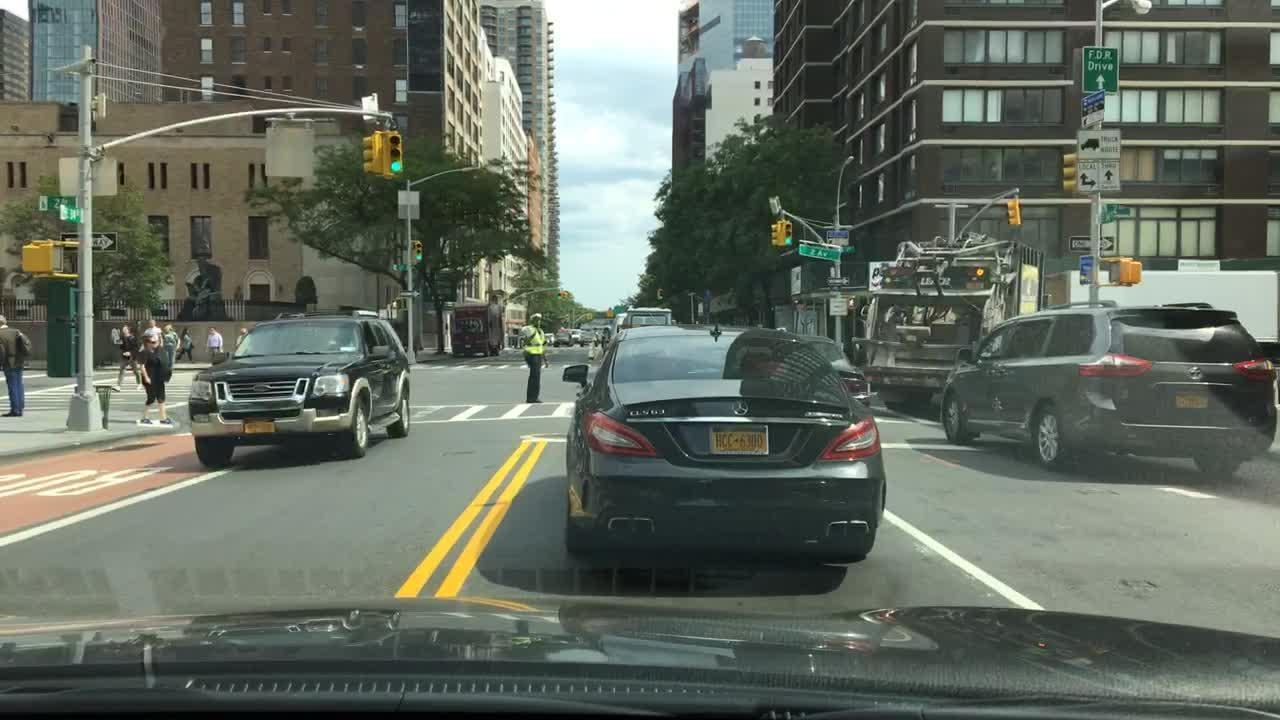Mercedes: (726, 397, 758, 419)
